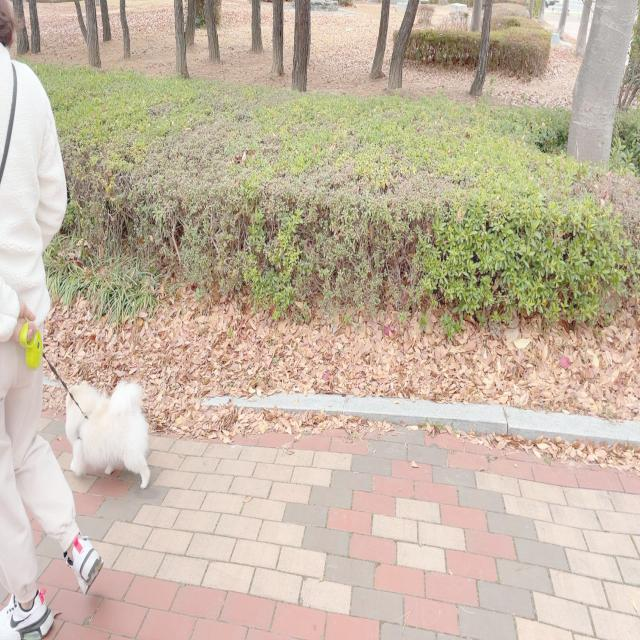Leashed_Dog: (16, 277, 152, 490)
